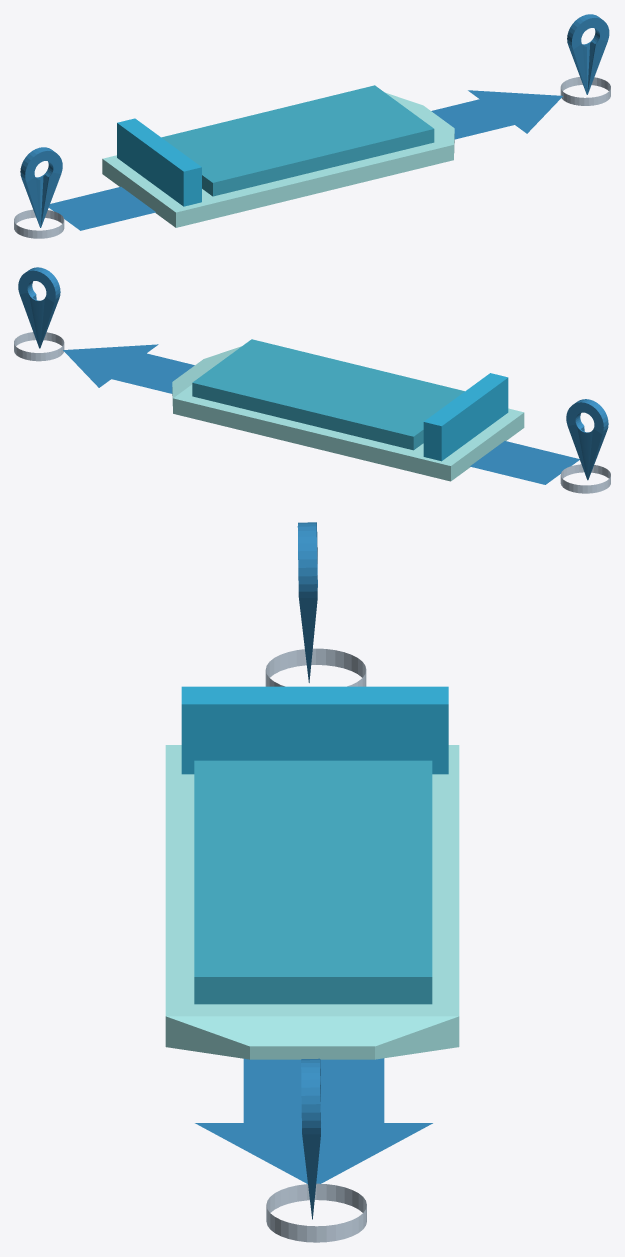
The model's file is Vesselv2.glb.
3 views of the same model, one above another, from view 1: azimuth 30°, elevation 25°; view 2: azimuth 150°, elevation 25°; view 3: azimuth 270°, elevation 25° (orthographic). The views are drawn at different scales.
Visible parts, largest first — view 1: Cube.002, Cube, Plane, Cube.001, Cylinder, Cylinder.002, Cylinder.001, Cylinder.003; view 2: Cube.002, Cube, Plane, Cube.001, Cylinder, Cylinder.002, Cylinder.001, Cylinder.003; view 3: Cube.002, Cube, Cube.001, Plane, Cylinder.001, Cylinder.002, Cylinder, Cylinder.003.
Boxes of the visible parts, x1,y1,x2,y2 form: Cube.002: (161, 85, 434, 196); Cube: (102, 92, 454, 227); Plane: (49, 90, 562, 230); Cube.001: (117, 118, 201, 206); Cylinder: (567, 14, 609, 94); Cylinder.002: (20, 147, 62, 227); Cylinder.001: (560, 77, 610, 105); Cylinder.003: (14, 209, 64, 238); Cube.002: (192, 339, 464, 450); Cube: (172, 346, 524, 481); Plane: (63, 344, 579, 484); Cube.001: (423, 373, 508, 461); Cylinder: (18, 267, 60, 348); Cylinder.002: (566, 399, 608, 480); Cylinder.001: (14, 332, 64, 361); Cylinder.003: (560, 464, 610, 493); Cube.002: (194, 760, 432, 1004); Cube: (165, 745, 459, 1059); Cube.001: (181, 686, 448, 774); Plane: (195, 1058, 432, 1183); Cylinder.001: (266, 1183, 366, 1242); Cylinder.002: (297, 522, 317, 682); Cylinder: (301, 1058, 321, 1219); Cylinder.003: (265, 648, 366, 686).
Size of the model in its own units: 27.08 by 3.55 by 5.84.
